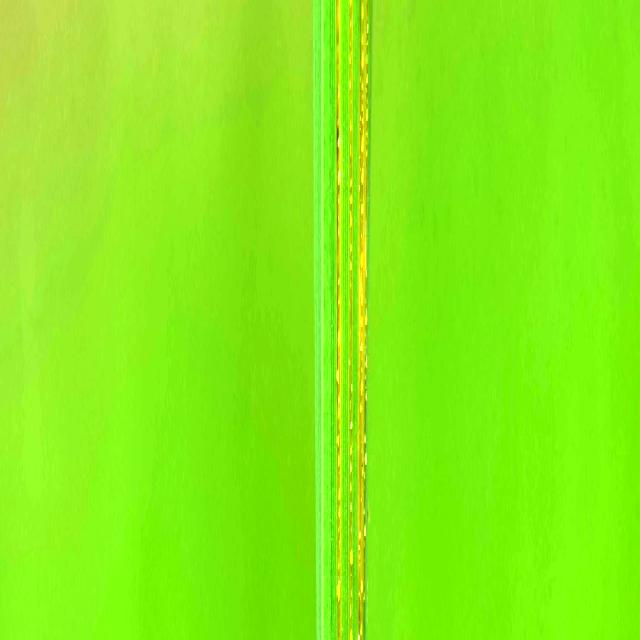BLS: (358, 1, 369, 640), (336, 1, 341, 640), (349, 1, 353, 640)
